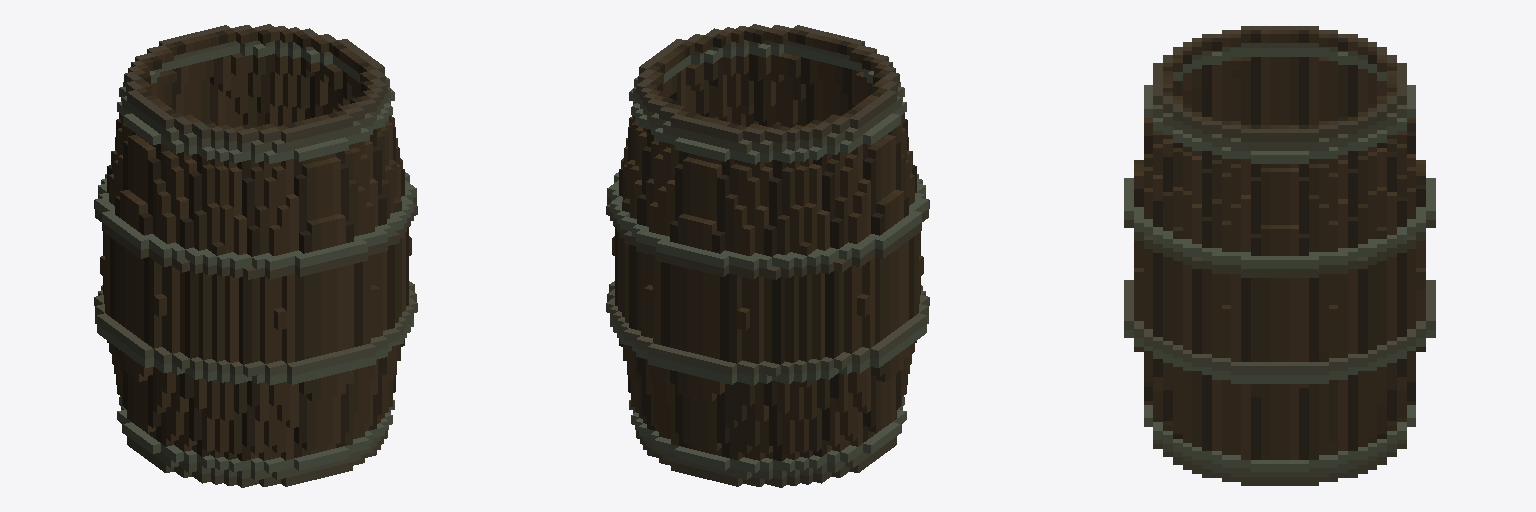
The picture shows the model from 3 angles: view 1: azimuth 30°, elevation 25°; view 2: azimuth 150°, elevation 25°; view 3: azimuth 270°, elevation 25°; orthographic projection.
Parts seen in each view (by area): view 1: object 1; view 2: object 1; view 3: object 1.
Part boxes in pixels (bbox=[...]): object 1: bbox=[94, 24, 417, 487]; object 1: bbox=[606, 24, 929, 487]; object 1: bbox=[1124, 26, 1435, 485].
Size of the model in its own units: 3.2 by 4 by 3.2.
Materials: 1 (1 with a texture image).